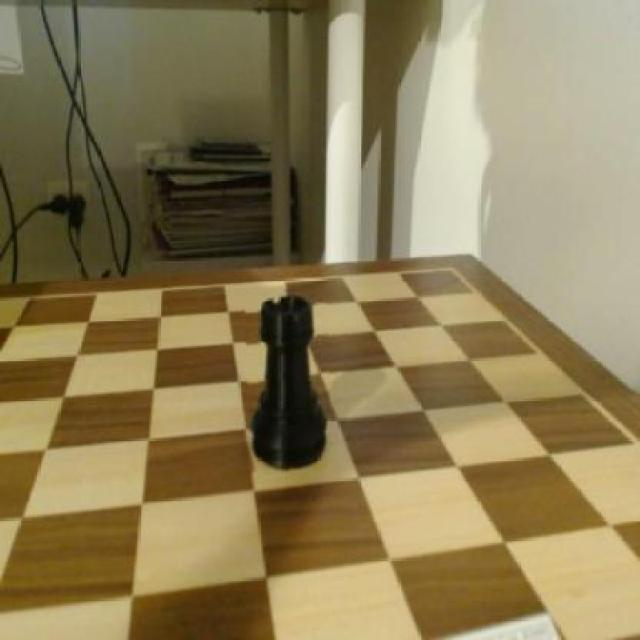black-queen: (246, 288, 331, 472)
